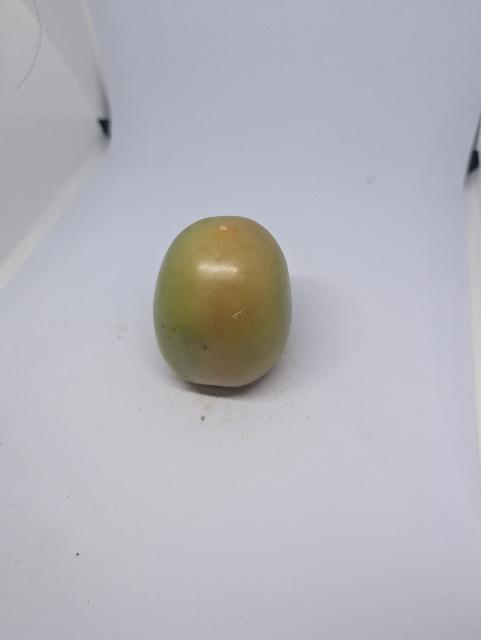breaker: (154, 217, 292, 387)
